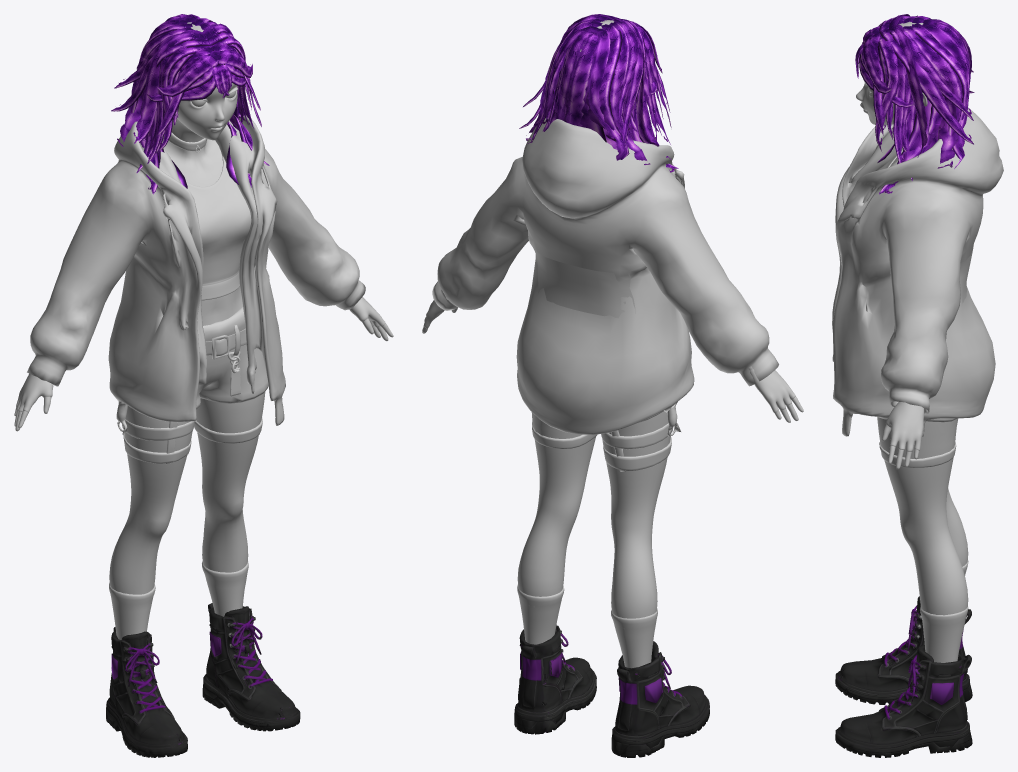
File: lip_sync.fbx
The picture shows the model from 3 angles, left to right: view 1: azimuth 30°, elevation 25°; view 2: azimuth 150°, elevation 25°; view 3: azimuth 270°, elevation 25°; orthographic projection.
Parts seen in each view (by area): view 1: Jacket, body, Shoes, SKiny, Short, Shockes, StrapsFBXASC046005, polySurface50, polySurface46, GlovesFBXASC046002, polySurface62, polySurface68 (+2 smaller); view 2: Jacket, body, Shoes, Logo, Shockes, StrapsFBXASC046005, polySurface36, polySurface32, polySurface7, GlovesFBXASC046002, polySurface17, polySurface68 (+2 smaller); view 3: Jacket, Shoes, body, Shockes, polySurface68, GlovesFBXASC046002, polySurface7, polySurface50, polySurface17, polySurface32, polySurface62, polySurface22 (+8 smaller).
Part boxes in pixels (x1,y1,x2,y2): Jacket: (27,115,365,434); body: (14,22,393,594); Shoes: (106,603,300,757); SKiny: (186,155,251,300); Short: (196,307,268,408); Shockes: (109,561,248,639); StrapsFBXASC046005: (122,417,262,463); polySurface50: (133,23,240,143); polySurface46: (156,50,252,96); GlovesFBXASC046002: (16,297,385,412); polySurface62: (158,35,261,152); polySurface68: (111,32,233,111); Jacket: (432,118,778,436); body: (422,20,803,631); Shoes: (514,625,709,757); Logo: (533,248,635,318); Shockes: (517,585,657,668); StrapsFBXASC046005: (532,422,673,470); polySurface36: (554,32,597,126); polySurface32: (540,21,622,141); polySurface7: (527,26,629,160); GlovesFBXASC046002: (424,300,795,412); polySurface17: (539,18,628,140); polySurface68: (519,15,645,152); Jacket: (832,107,1003,436); Shoes: (835,596,972,757); body: (856,22,968,615); Shockes: (920,560,968,662); polySurface68: (879,18,974,144); GlovesFBXASC046002: (886,402,924,451); polySurface7: (922,19,971,168); polySurface50: (889,14,927,157); polySurface17: (902,16,962,136); polySurface32: (912,15,968,122); polySurface62: (875,20,899,151); polySurface22: (889,16,973,120).
Bounding box in the file's own units: 108 × 192 × 42.88.
